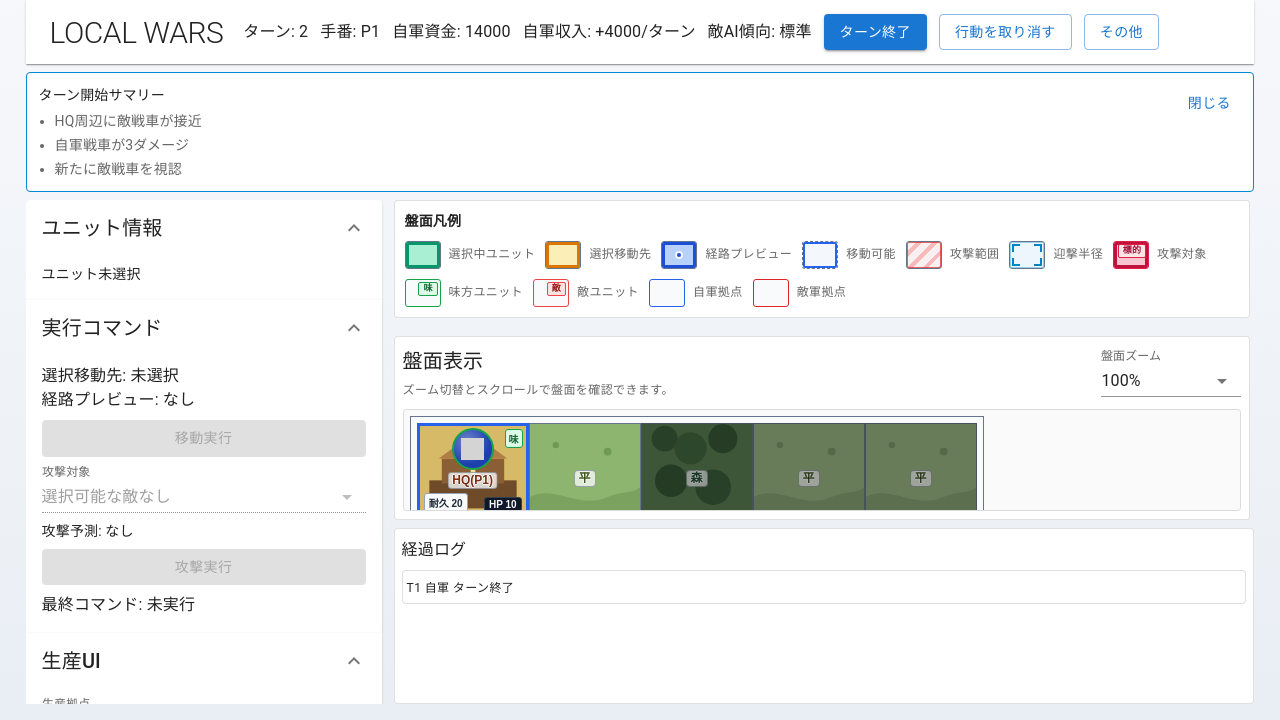
it: BattleScreen UIテスト: 情報表示と導線 › 再生後のターン開始サマリーに新規視認が表示され、閉じられる
Expected: the heading "ターン開始サマリー" is shown, [39,87,165,103]
Expected: the list item "新たに敵戦車を視認" is shown, [55,159,202,179]
Click the button "閉じる" at point(1209, 103), box [1177,85,1241,122]
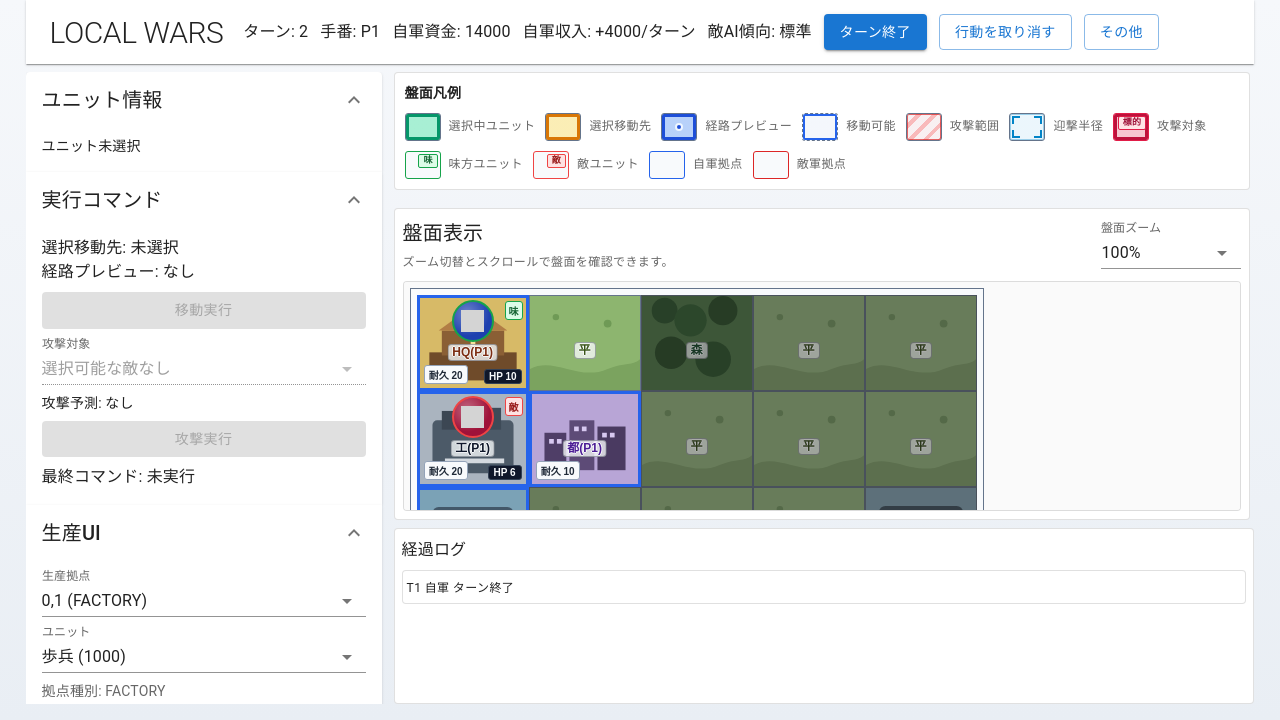
Expected: the heading "ターン開始サマリー" is gone
